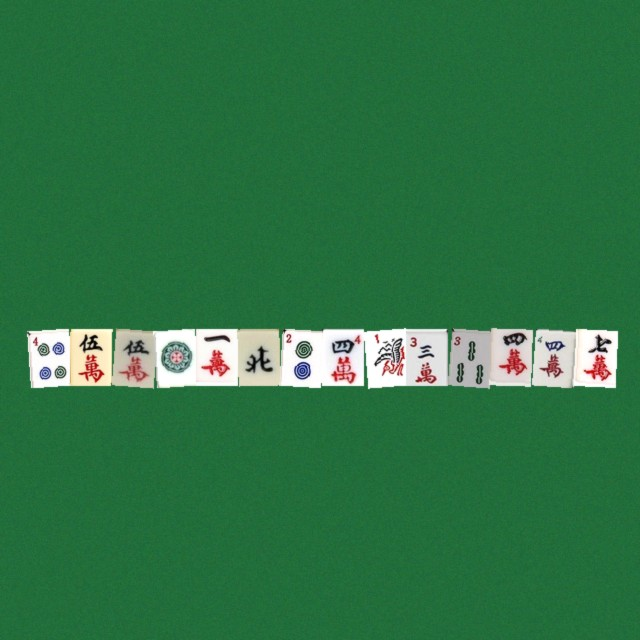tile: (27, 328, 69, 385), (69, 328, 111, 385), (111, 328, 153, 385), (153, 328, 195, 385), (195, 328, 237, 385), (237, 328, 279, 385), (279, 328, 321, 385), (321, 328, 363, 385), (363, 328, 405, 385), (405, 328, 447, 385), (447, 328, 489, 385), (489, 328, 531, 385), (531, 328, 573, 385), (573, 328, 615, 385)
